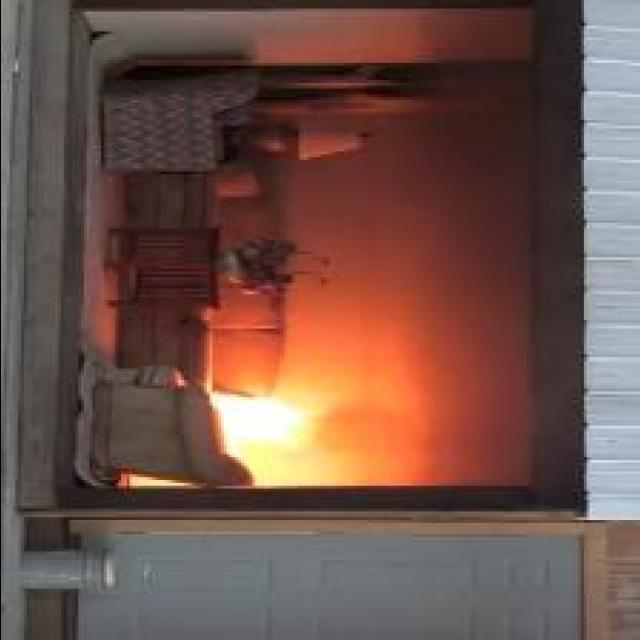Fire: (210, 392, 324, 458)
